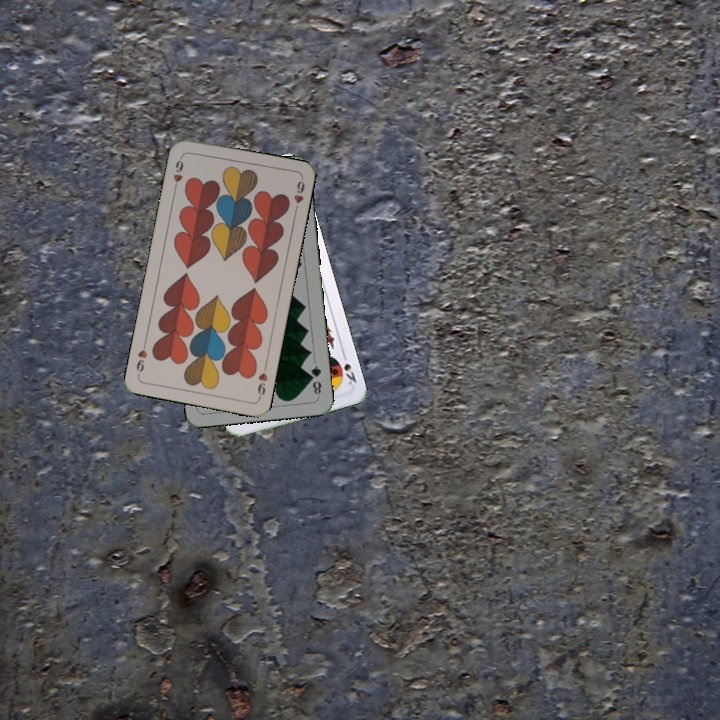G8: (306, 361, 324, 397)
H9: (169, 152, 186, 193), (253, 361, 270, 401)
SK: (338, 348, 359, 388)
